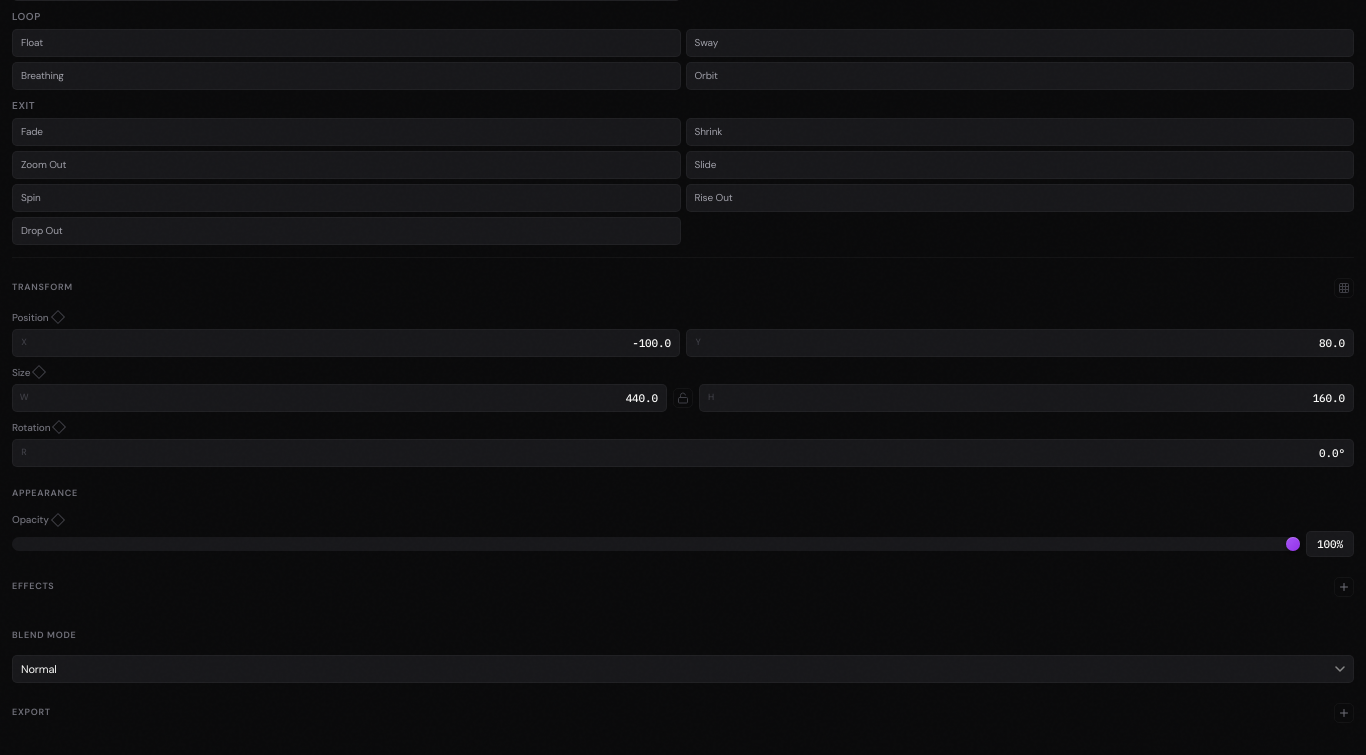
Scenario: PropertiesPanel › editable size › shows a scaled group's size once scaled, and resizes it to exactly what's typed
(page scrolled)
Expected: the 4th field holds "160.0", [718,384,1353,410]
Replace the text in the field labelled "Size" with "330" at [348, 398], box [31,384,666,410]
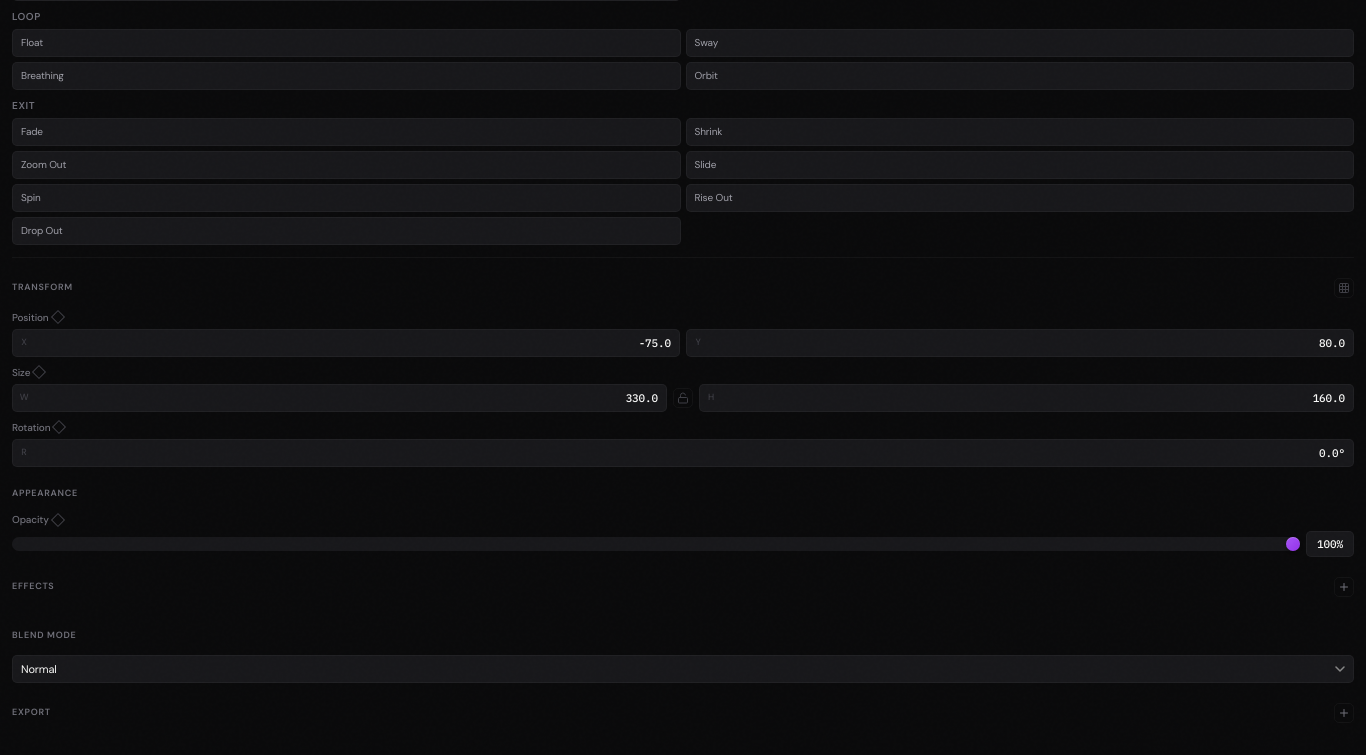
Replace the text in the 4th field with "40" at [1036, 398], box [718,384,1353,410]
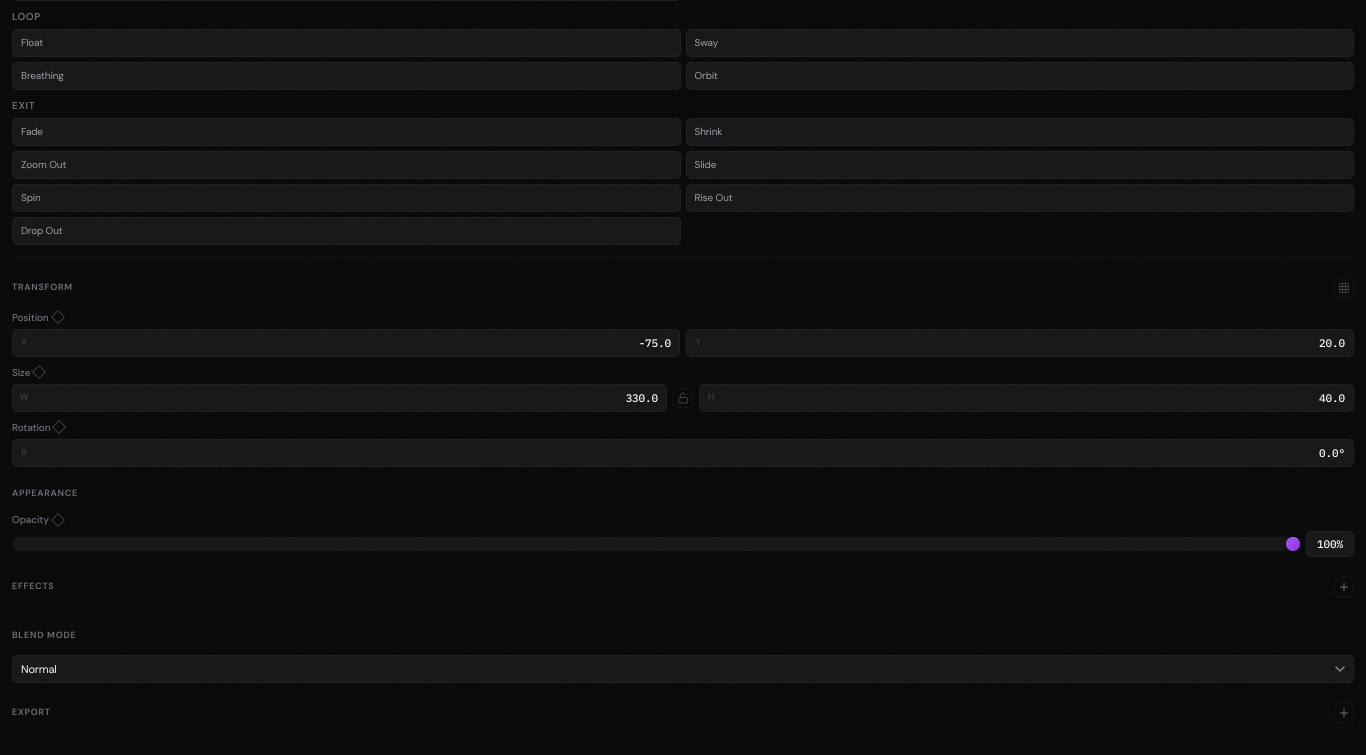
Now the field labelled "Size" holds "330.0", box [31,384,666,410]
Now the 4th field holds "40.0", box [718,384,1353,410]
